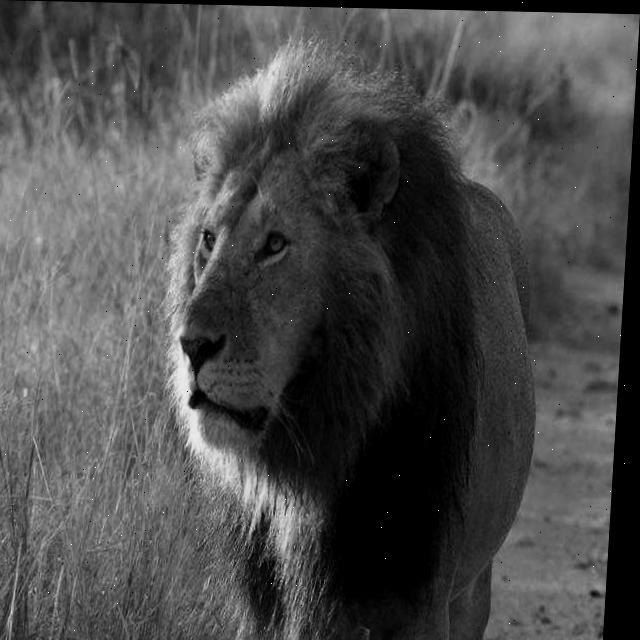Lion: (101, 83, 580, 640)
